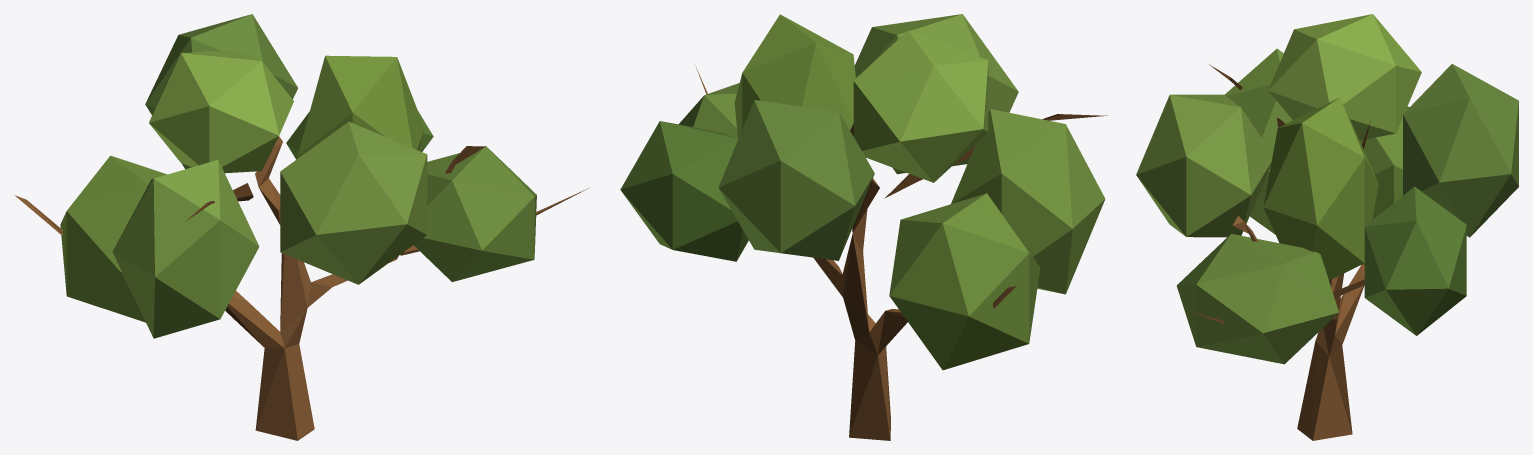
Rendered from elm_1_bloom_far.glb.
3 renders of one model, left to right at view 1: azimuth 30°, elevation 25°; view 2: azimuth 150°, elevation 25°; view 3: azimuth 270°, elevation 25°, orthographic. The views are drawn at different scales.
Visible parts, largest first — view 1: elm_1_bloom_far; view 2: elm_1_bloom_far; view 3: elm_1_bloom_far.
Part boxes in pixels (x1=…): elm_1_bloom_far: x1=14, y1=14, x2=588, y2=440; elm_1_bloom_far: x1=620, y1=14, x2=1107, y2=440; elm_1_bloom_far: x1=1136, y1=14, x2=1518, y2=440.
Size of the model in its own units: 7.53 by 6.19 by 5.7.
